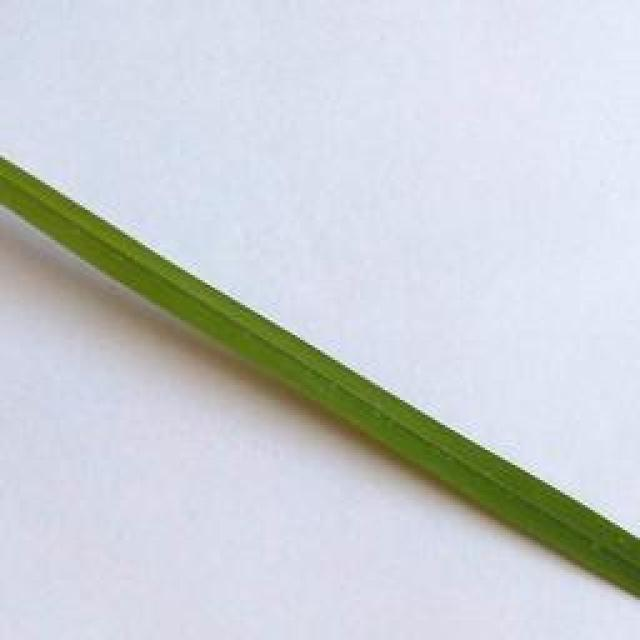Healthy-Plant: (0, 155, 640, 600)
